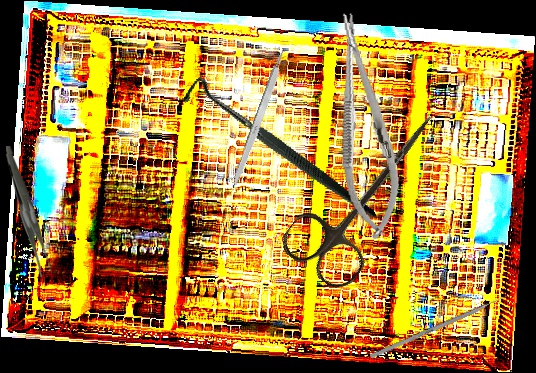Dressing Forceps: (3, 146, 55, 277)
Hook Surgical: (177, 34, 377, 271)
Iris Scissors: (275, 89, 461, 296)
Needle Holder: (321, 7, 408, 244)
Pusher: (369, 290, 517, 359)
Scalpel Handle: (229, 48, 290, 190)
